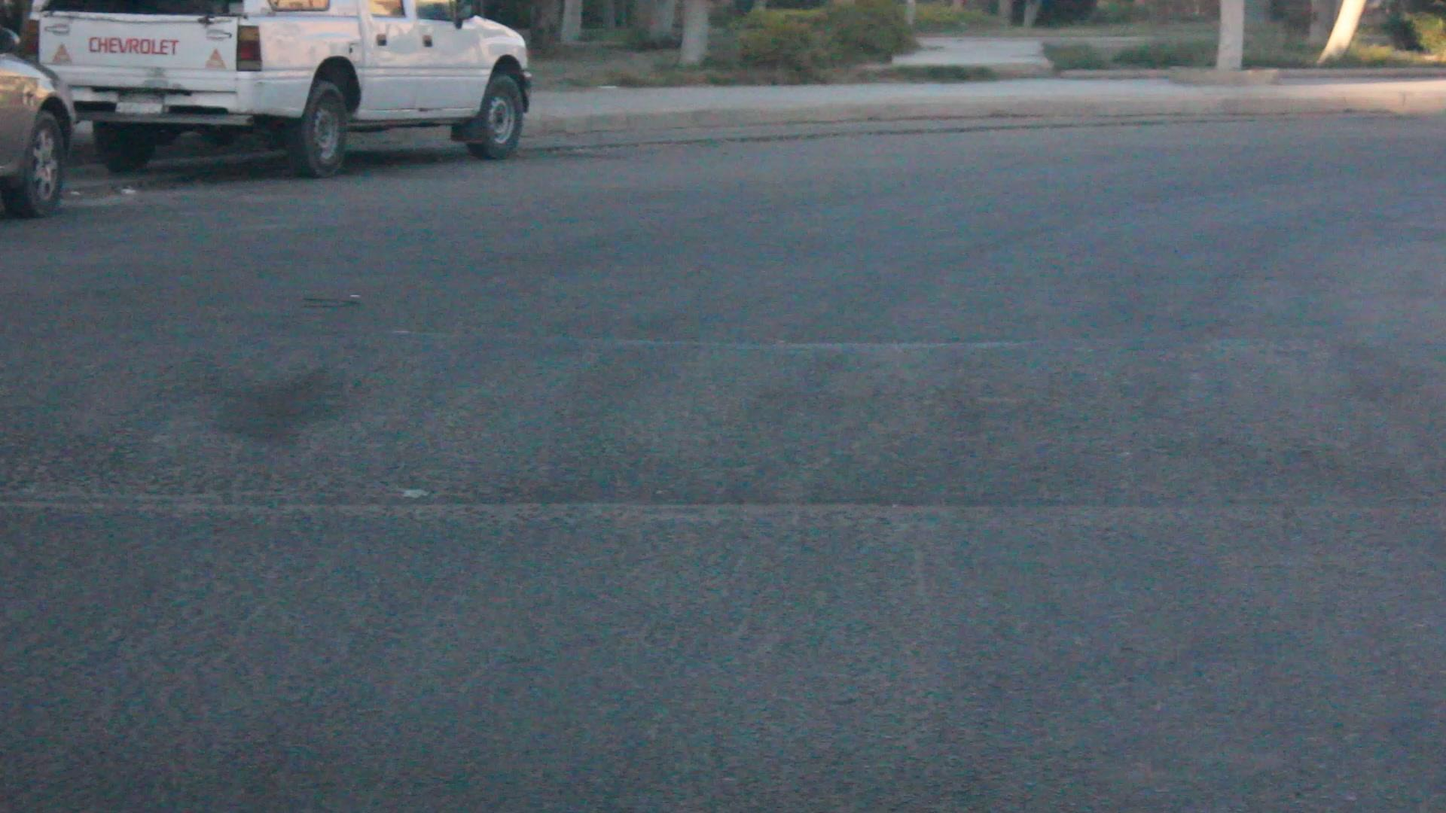Bump: (11, 314, 1446, 531)
